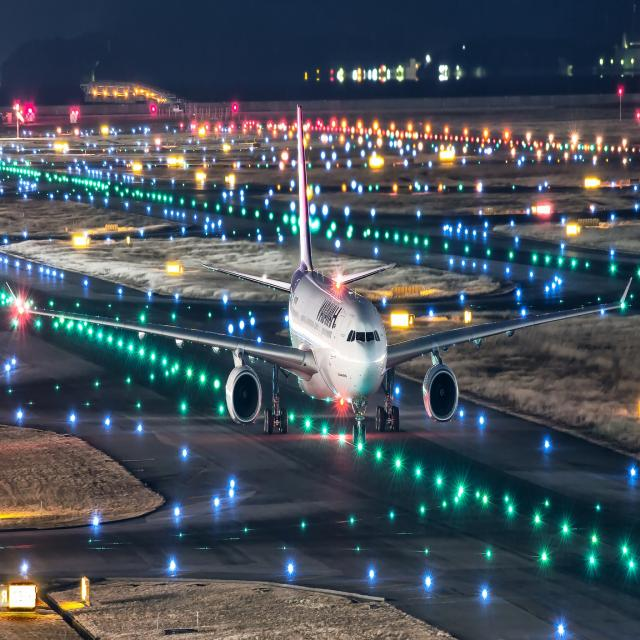plain: (34, 107, 618, 429)
